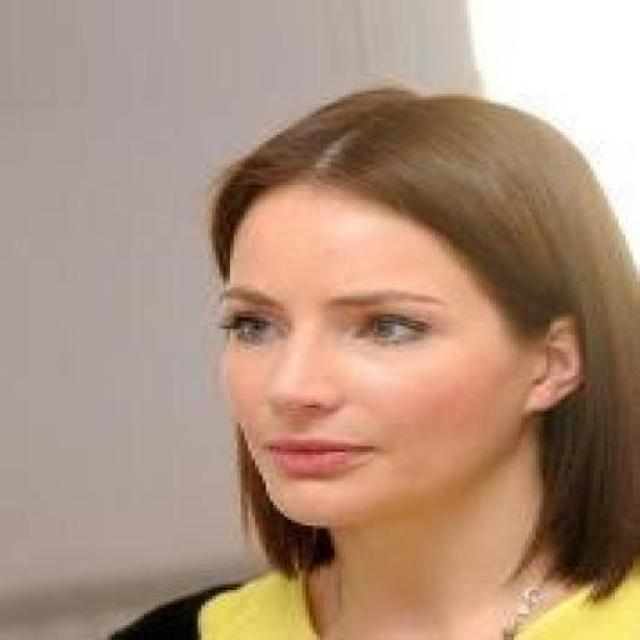bareface: (227, 129, 535, 526)
